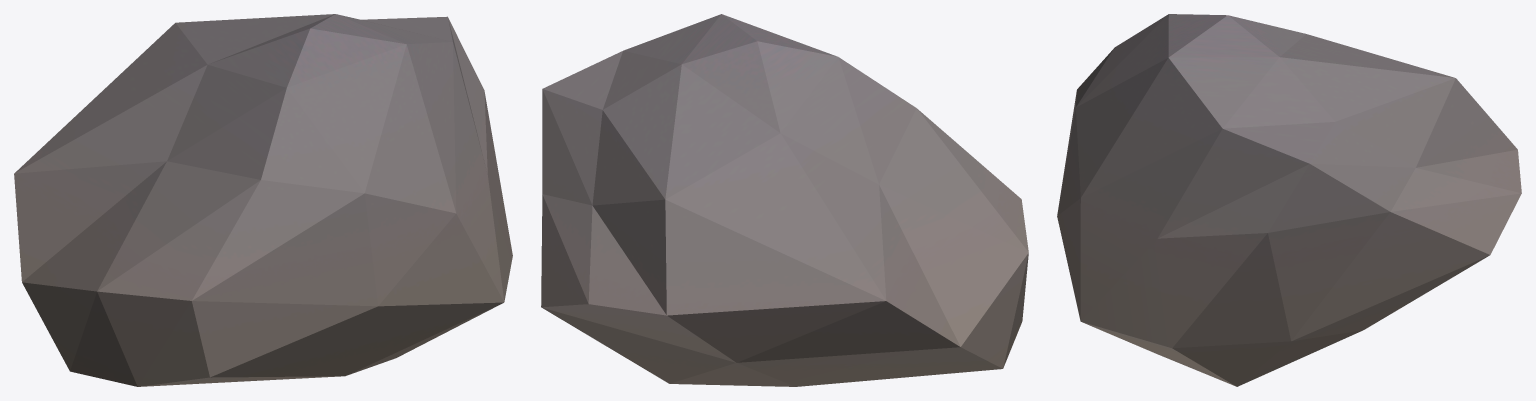
3 renders of one model, left to right at view 1: azimuth 30°, elevation 25°; view 2: azimuth 150°, elevation 25°; view 3: azimuth 270°, elevation 25°, orthographic. The views are drawn at different scales.
Visible parts, largest first — view 1: RockGrey2; view 2: RockGrey2; view 3: RockGrey2.
Part boxes in pixels (<box>): RockGrey2: <box>14,14,512,386</box>; RockGrey2: <box>541,14,1028,386</box>; RockGrey2: <box>1057,14,1521,386</box>.
Bounding box in the file's own units: 4.79 × 3.39 × 4.37.
Materials: 1 (1 with a texture image).
